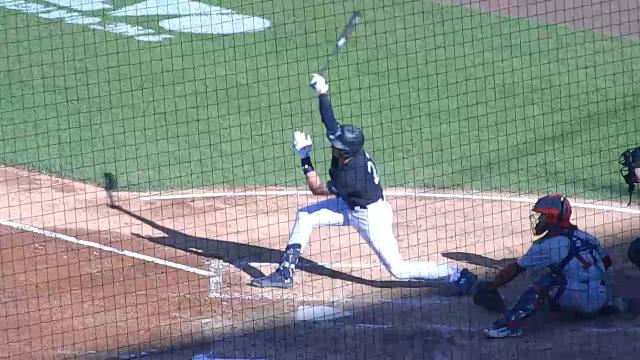baseball bat: (318, 10, 364, 76)
